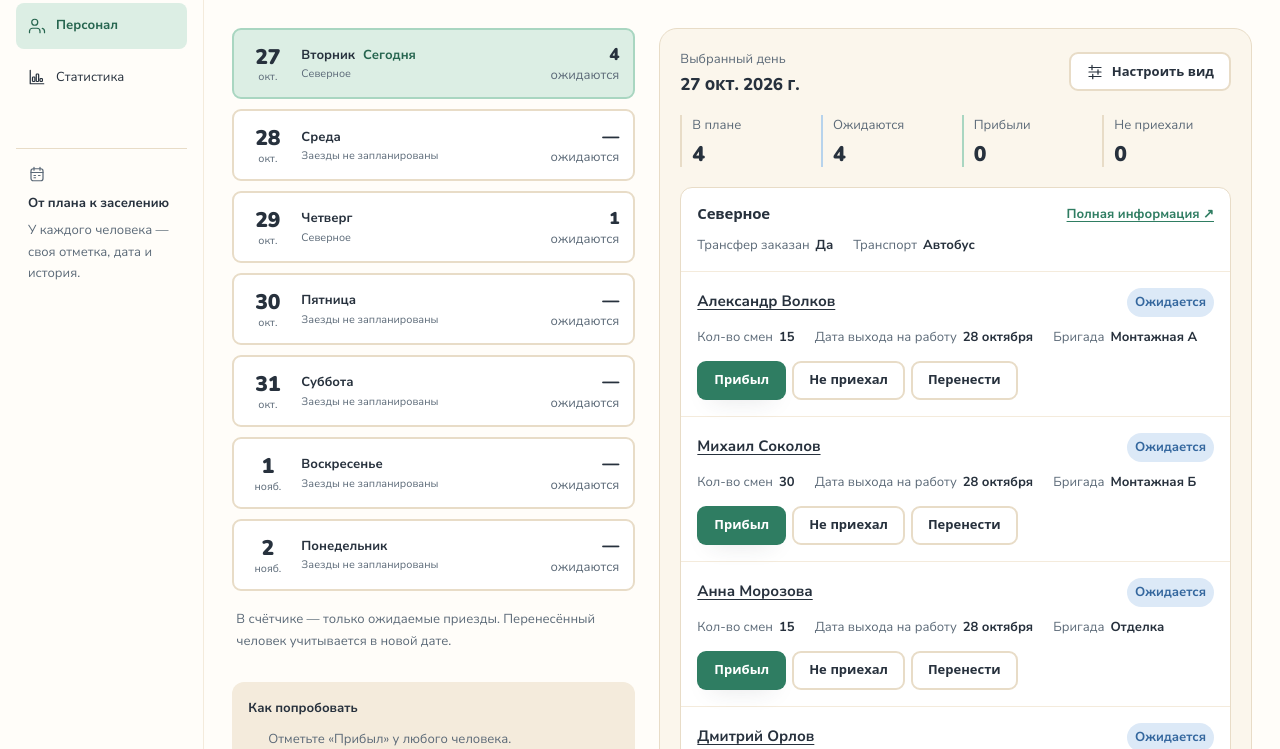
Scenario: сохраняет скрытые поля в полной информации, а отметка не открывает карточку поверх действия
(page scrolled)
Expected: the text "Встреча у проходной" is not shown
Click the button "Не приехал" below "Монтажная Б". click: [848, 525]
box: top-left (792, 506), bottom-right (905, 545)
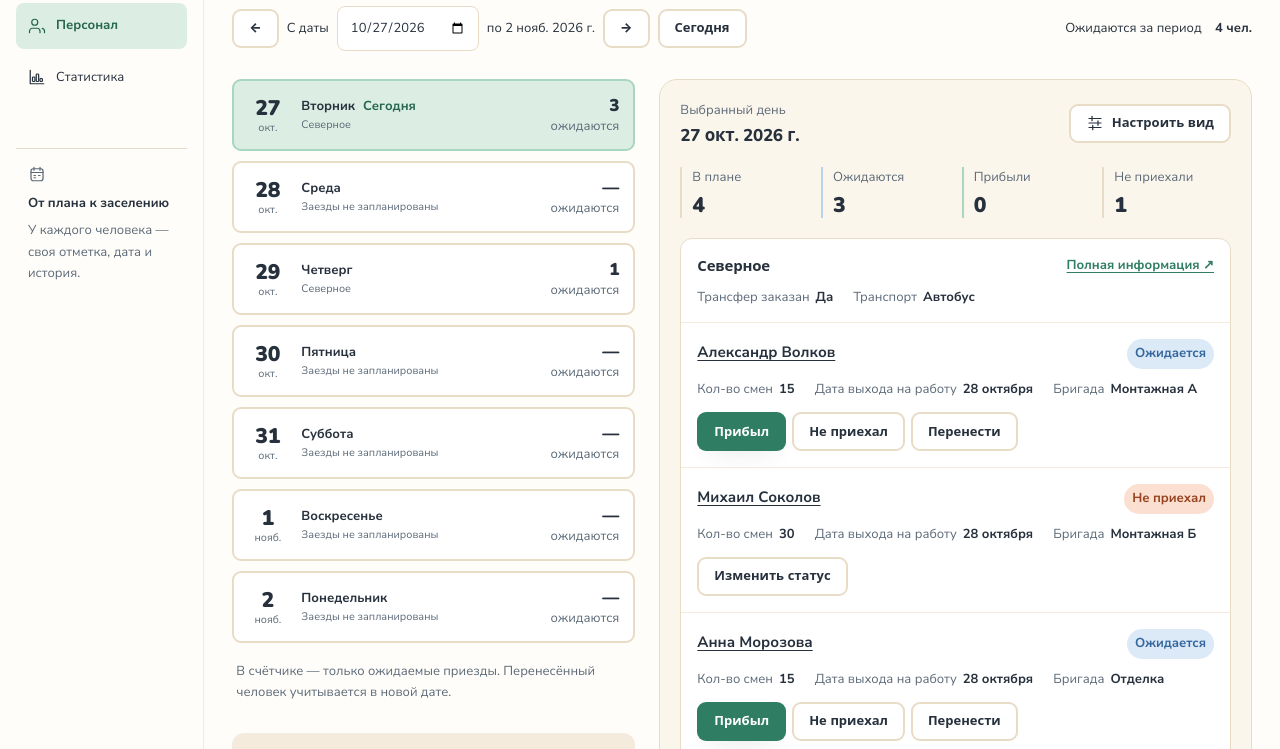
Click the button "Полная информация ↗". click: [1140, 266]
box: top-left (1067, 256), bottom-right (1214, 277)
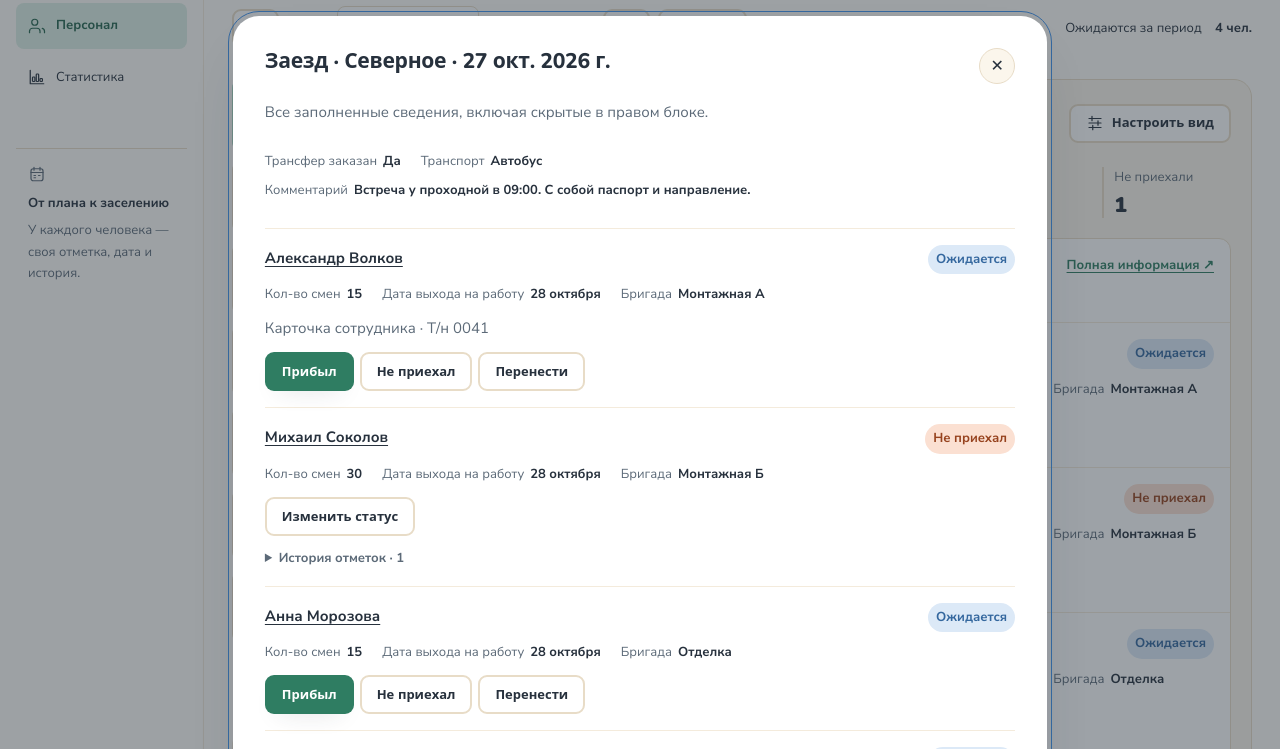
Expected: the text "Встреча у проходной в 09:00. С собой паспорт и направление." is shown, top-left (354, 180), bottom-right (751, 202)
